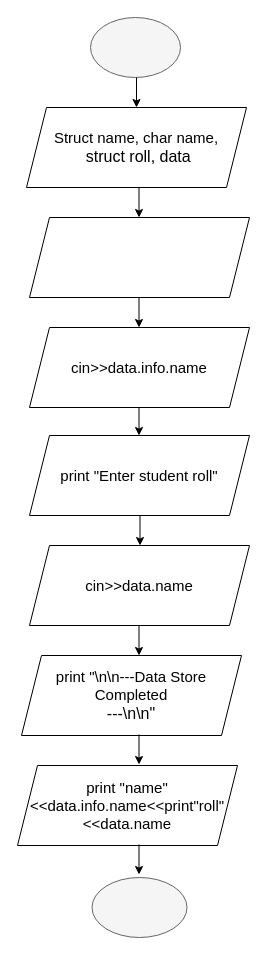
The diagram is 267 pixels wide and 955 high, and some of its shapes have lost their labels. Here are the shapes that lost their labels. From the top down, the centre of each, then its label:
pixel 135 47: Start
pixel 139 257: P rint "Enter student name"
pixel 139 907: End
